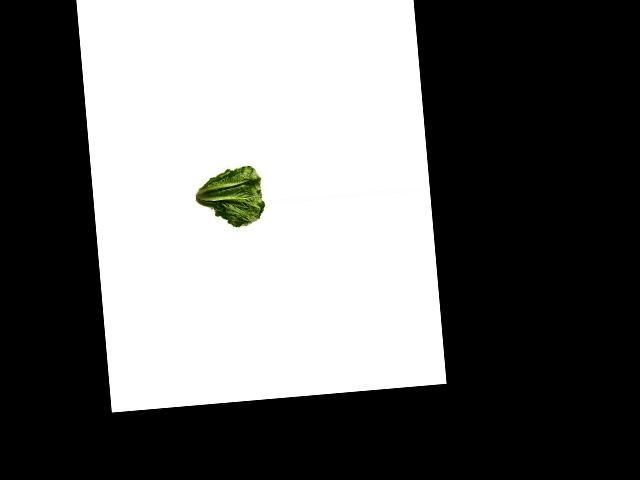lettuce: (190, 167, 267, 232)
